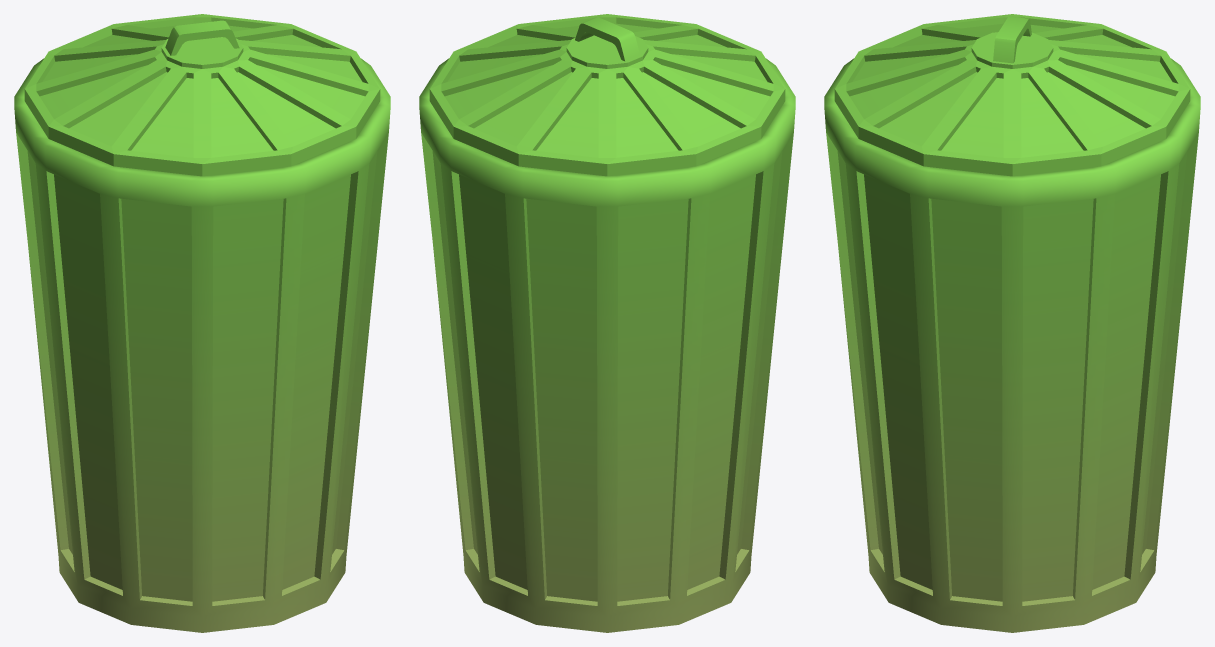
The model's file is trashcan.glb.
The picture shows the model from 3 angles, left to right: view 1: azimuth 30°, elevation 25°; view 2: azimuth 150°, elevation 25°; view 3: azimuth 270°, elevation 25°; orthographic projection.
Visible parts, largest first — view 1: Trashcan; view 2: Trashcan; view 3: Trashcan.
Part boxes in pixels (left/top/right/bottom): Trashcan: left=14, top=14, right=390, bottom=632; Trashcan: left=419, top=14, right=795, bottom=632; Trashcan: left=824, top=14, right=1200, bottom=632.
Size of the model in its own units: 0.3317 by 0.5298 by 0.3317.
1 material, 1 textured.
